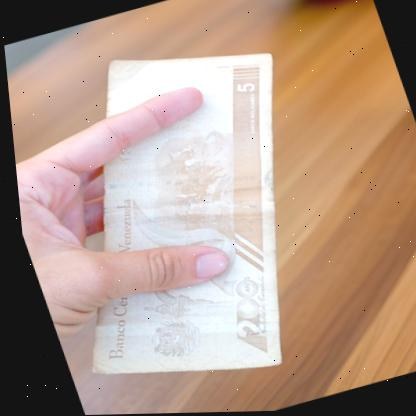five-back-vef: (2, 18, 368, 414)
